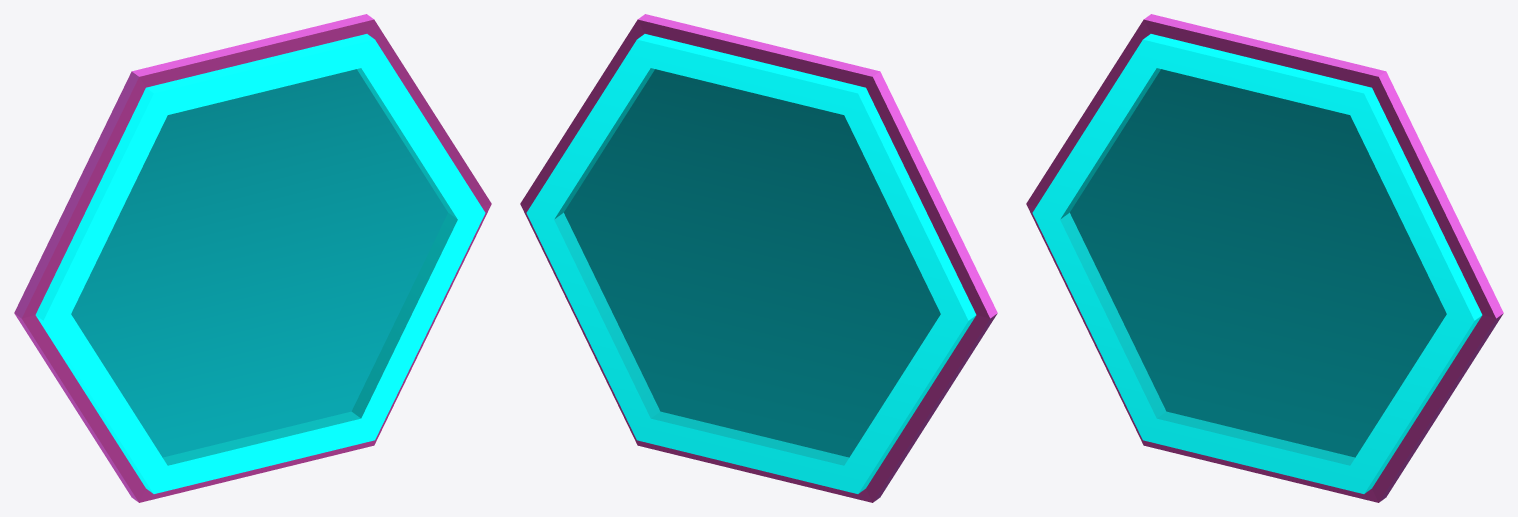
The model's file is Sign_Circle.glb.
3 views of the same model, side by side, from view 1: azimuth 30°, elevation 25°; view 2: azimuth 150°, elevation 25°; view 3: azimuth 330°, elevation 25° (orthographic).
Parts seen in each view (by area): view 1: SciFi_SignCircle; view 2: SciFi_SignCircle; view 3: SciFi_SignCircle.
Part boxes in pixels (<box>): SciFi_SignCircle: <box>14,14,491,502</box>; SciFi_SignCircle: <box>520,14,997,502</box>; SciFi_SignCircle: <box>1026,14,1503,502</box>.
Size of what is drawn, in the model's own units: 1.42 by 1.23 by 0.12.
Materials: 1 (1 with a texture image).
